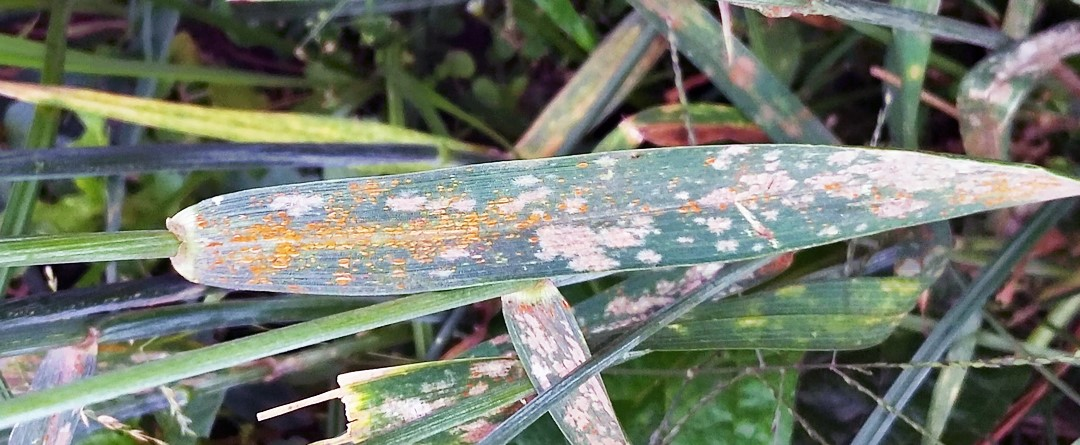Leaf Rust: (192, 158, 600, 289)
